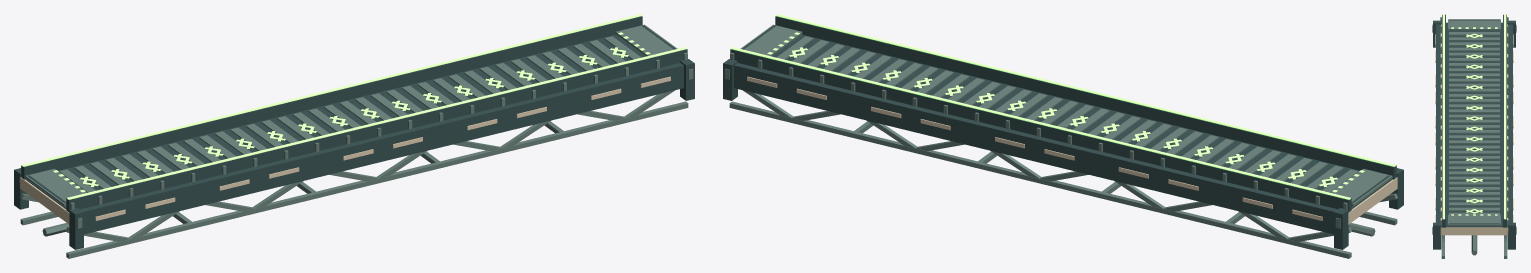
The model's file is Deck_Conveyor_Belt_v4_20_lab2.glb.
3 renders of one model, left to right at view 1: azimuth 30°, elevation 25°; view 2: azimuth 150°, elevation 25°; view 3: azimuth 270°, elevation 25°, orthographic. The views are drawn at different scales.
Parts seen in each view (by area): view 1: Deck_Conveyor_Belt_v4_20, Treads, TreadsRev; view 2: Deck_Conveyor_Belt_v4_20, Treads, TreadsRev; view 3: Deck_Conveyor_Belt_v4_20, Treads, TreadsRev.
Part boxes in pixels (box(x1,y1,x2,y2)): Deck_Conveyor_Belt_v4_20: box(14, 14, 694, 258); Treads: box(59, 36, 641, 192); TreadsRev: box(59, 36, 640, 192); Deck_Conveyor_Belt_v4_20: box(723, 14, 1403, 258); Treads: box(776, 36, 1358, 192); TreadsRev: box(777, 36, 1358, 192); Deck_Conveyor_Belt_v4_20: box(1432, 14, 1516, 258); Treads: box(1449, 32, 1499, 214); TreadsRev: box(1449, 32, 1499, 214).
Bounding box in the file's own units: 20.05 × 1.83 × 3.48.
